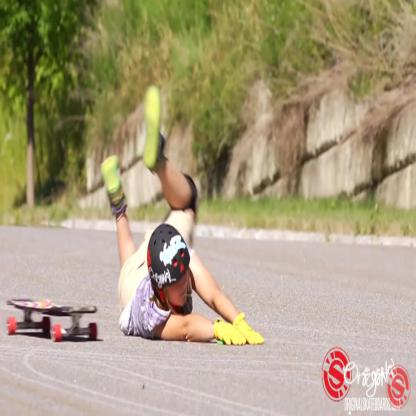Fall_Down: (98, 80, 268, 349)
